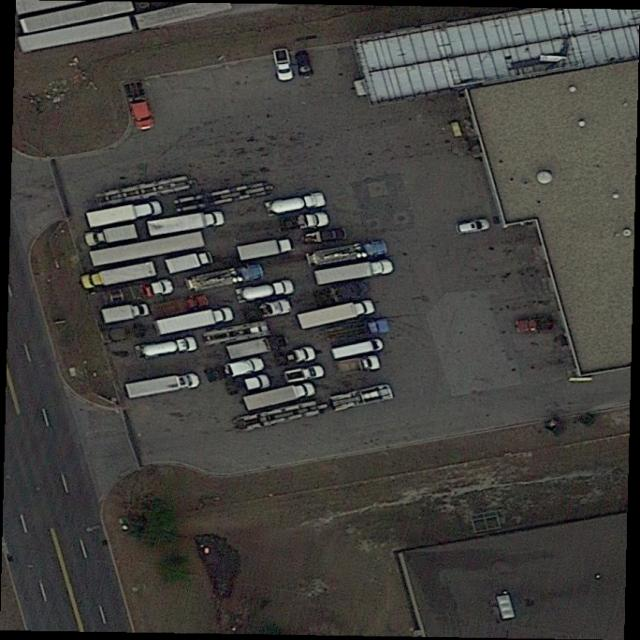large-vehicle: (154, 306, 235, 336), (298, 299, 376, 330), (306, 240, 387, 269), (80, 261, 157, 291), (86, 201, 164, 229), (147, 210, 225, 238), (314, 259, 394, 286), (243, 382, 315, 412), (126, 372, 200, 400), (131, 335, 199, 363), (264, 191, 327, 218), (84, 224, 138, 248), (166, 250, 213, 275), (238, 238, 291, 260), (102, 302, 150, 325)
small-vehicle: (234, 278, 296, 305), (330, 335, 388, 362), (150, 294, 209, 318), (282, 362, 327, 384), (337, 355, 383, 376), (270, 46, 296, 82), (454, 216, 493, 235), (514, 318, 556, 335), (294, 51, 315, 78)
